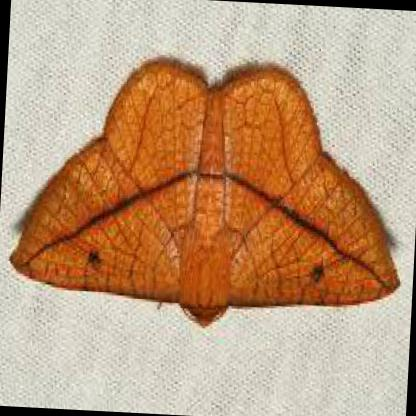Leaf Webber: (6, 52, 397, 335)
